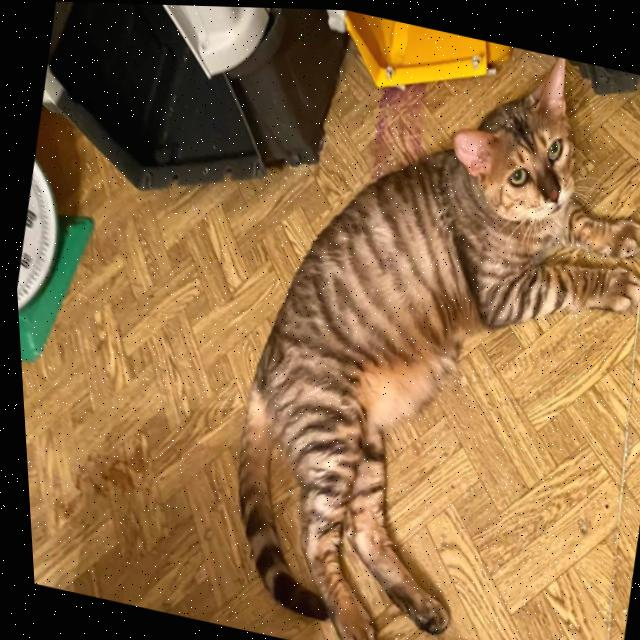Toyger: (175, 4, 640, 640)
